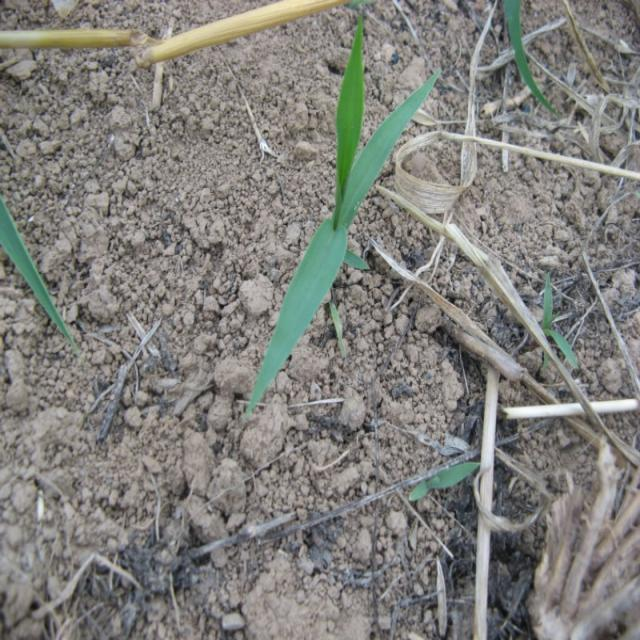bg: (246, 21, 441, 406)
